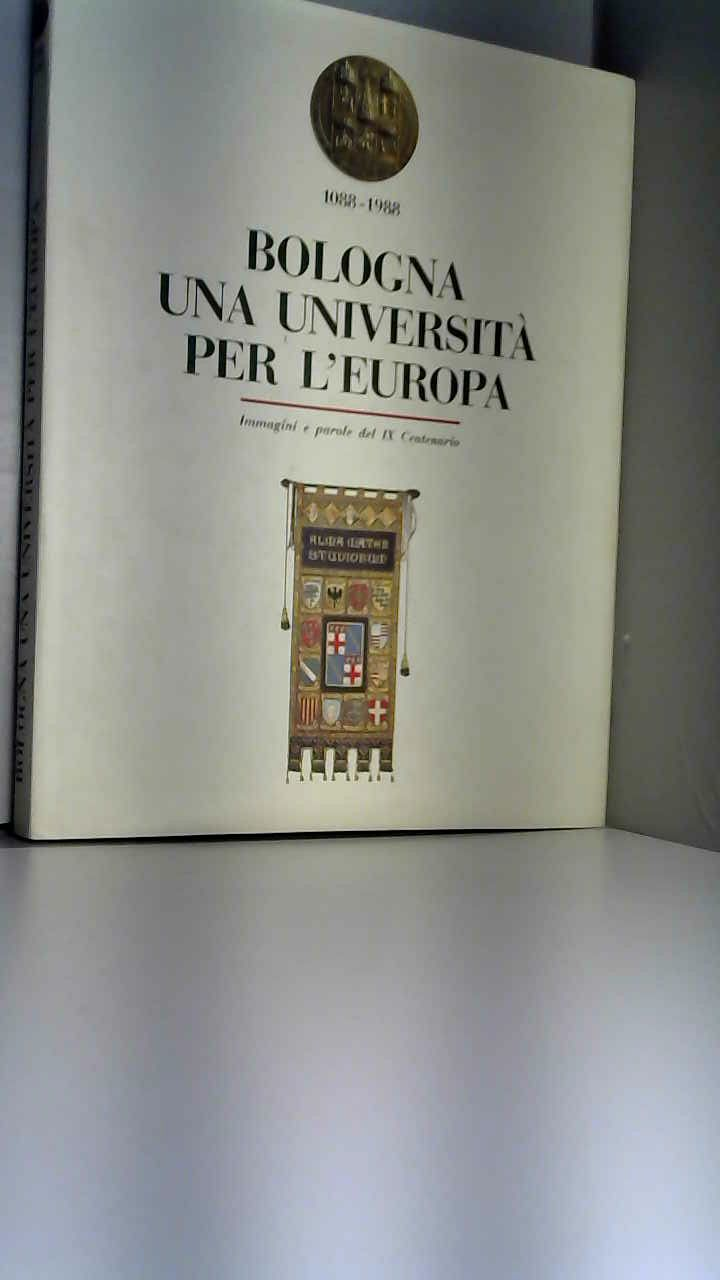book: (11, 5, 659, 863)
